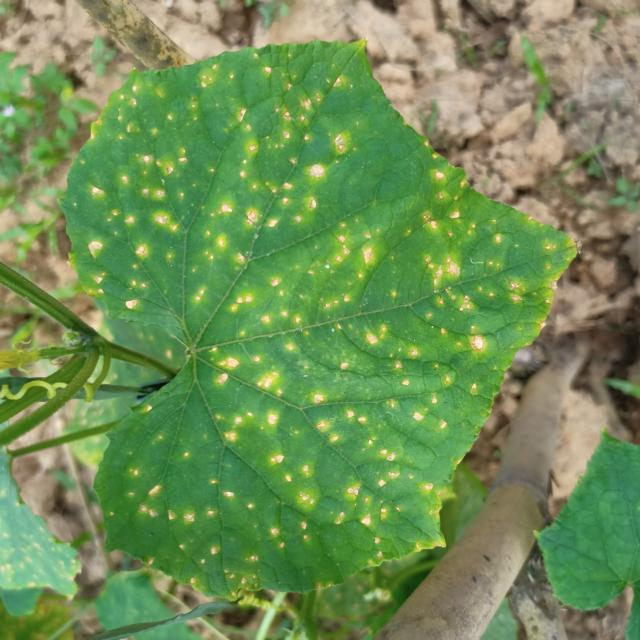disease_cucumber: (58, 68, 528, 584)
